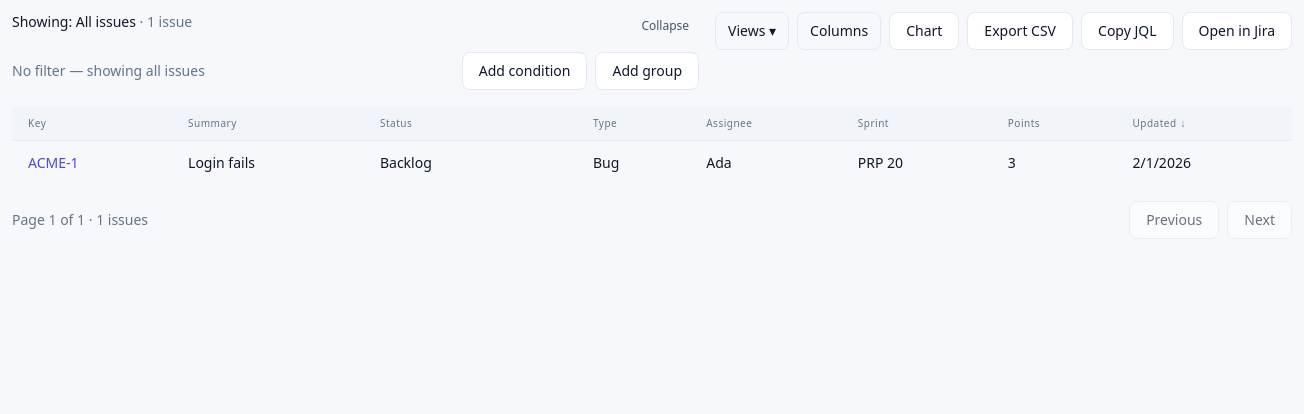
Test: ColumnChooser › offers the four columns the list already fetches but never shows
Click the heading "Columns": (839, 31) [797,12,881,50]
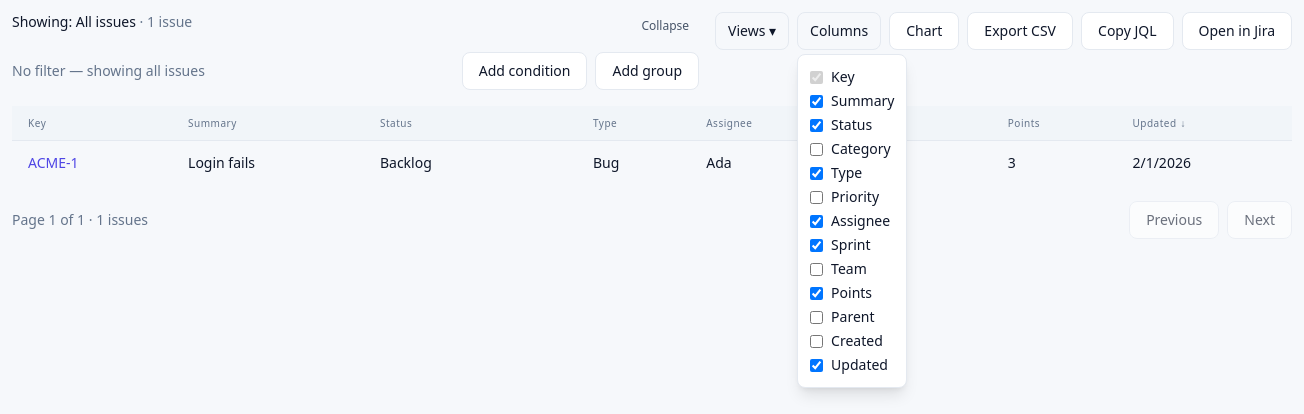
Now the checkbox labelled "Priority" is shown, box [810,190,823,204]
Now the checkbox labelled "Team" is shown, box [810,262,823,276]
Now the checkbox labelled "Parent" is shown, box [810,310,823,324]
